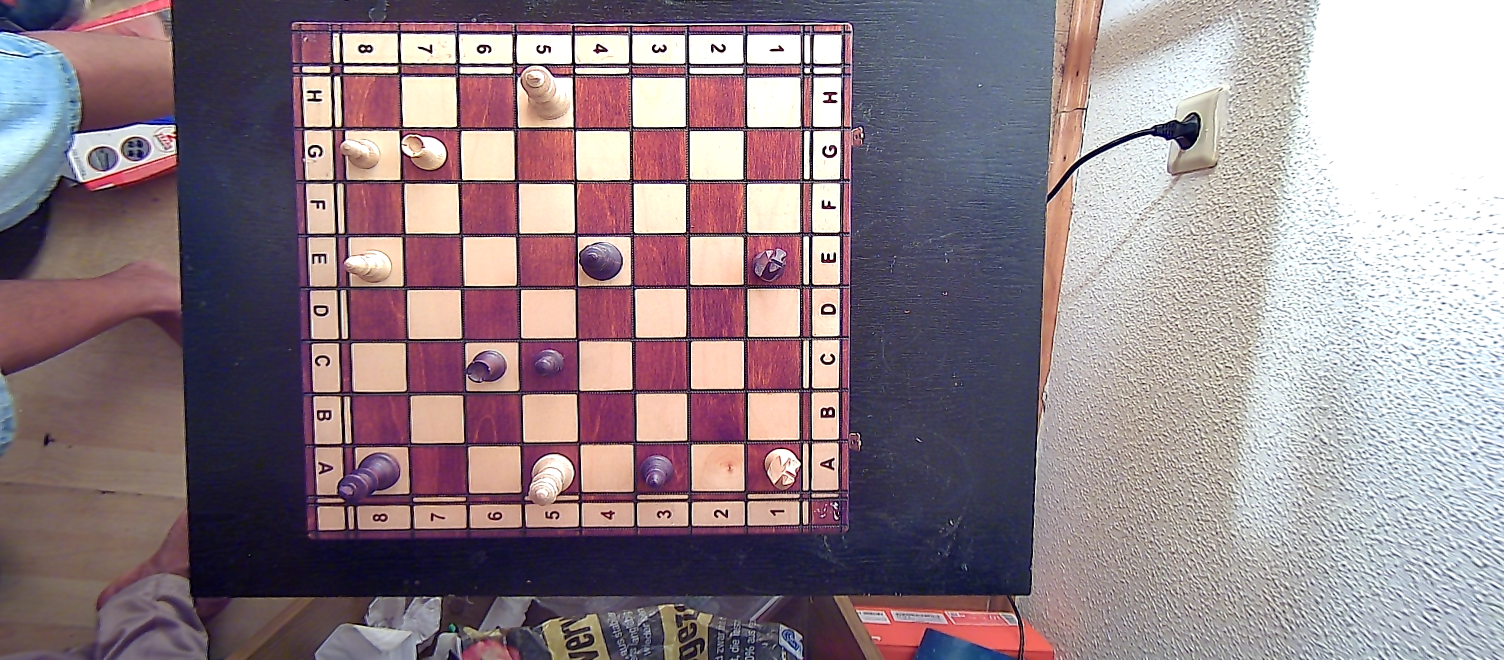black-bishop: (639, 451, 678, 495)
black-king: (338, 451, 400, 504)
black-knight: (750, 243, 791, 283)
black-pawn: (528, 345, 565, 382)
black-queen: (576, 239, 626, 282)
black-rook: (462, 349, 507, 385)
white-bishop: (341, 249, 394, 285)
white-king: (519, 62, 570, 122)
white-knight: (761, 444, 804, 491)
white-pawn: (337, 130, 381, 175)
white-queen: (525, 452, 574, 507)
white-rook: (397, 133, 448, 173)
